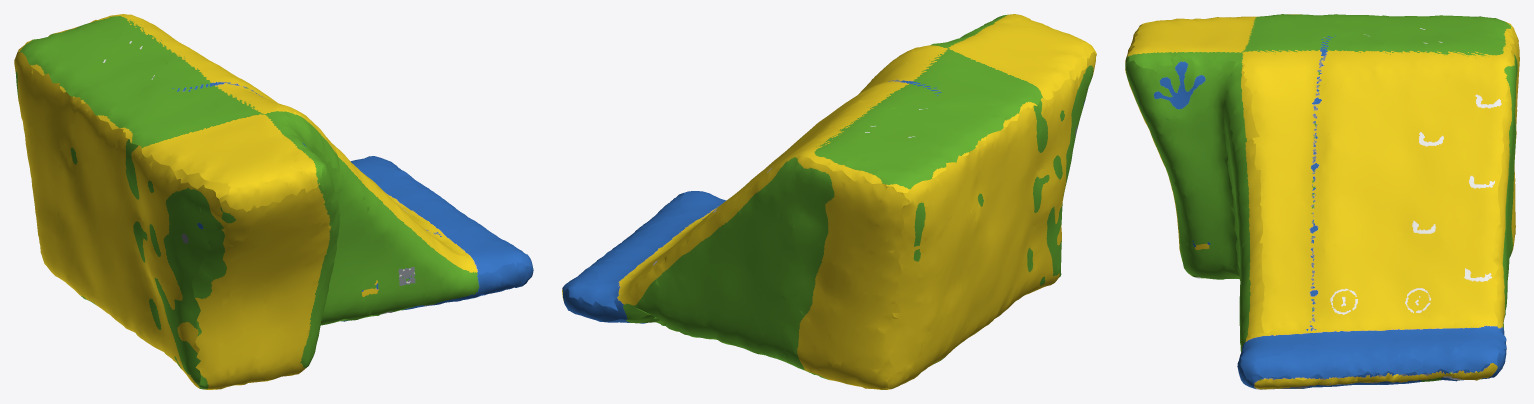
The model's file is actiontower-xl.glb.
The picture shows the model from 3 angles, left to right: view 1: azimuth 30°, elevation 25°; view 2: azimuth 150°, elevation 25°; view 3: azimuth 270°, elevation 25°; orthographic projection. The views are drawn at different scales.
Parts seen in each view (by area): view 1: geometry_0; view 2: geometry_0; view 3: geometry_0.
Part boxes in pixels (x1=…): geometry_0: x1=14, y1=14, x2=533, y2=389; geometry_0: x1=562, y1=14, x2=1096, y2=389; geometry_0: x1=1125, y1=14, x2=1519, y2=389.
Bounding box in the file's own units: 0.8532 × 0.5058 × 0.812.
1 material, 1 textured.
